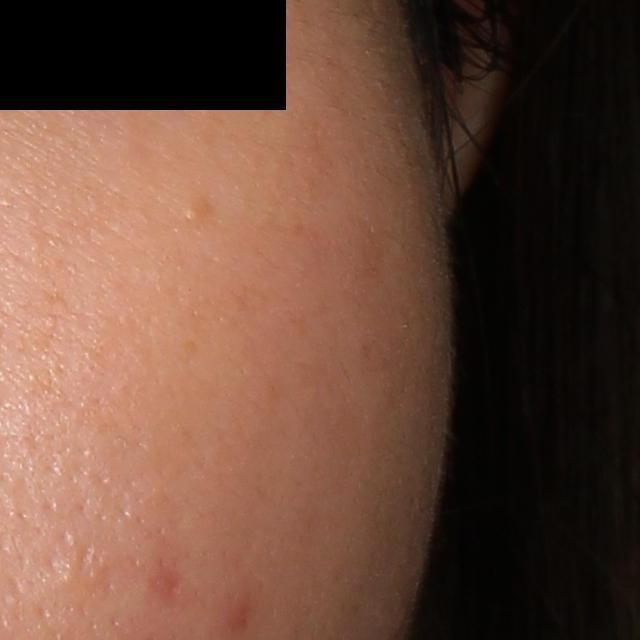comedo: (178, 197, 211, 225)
